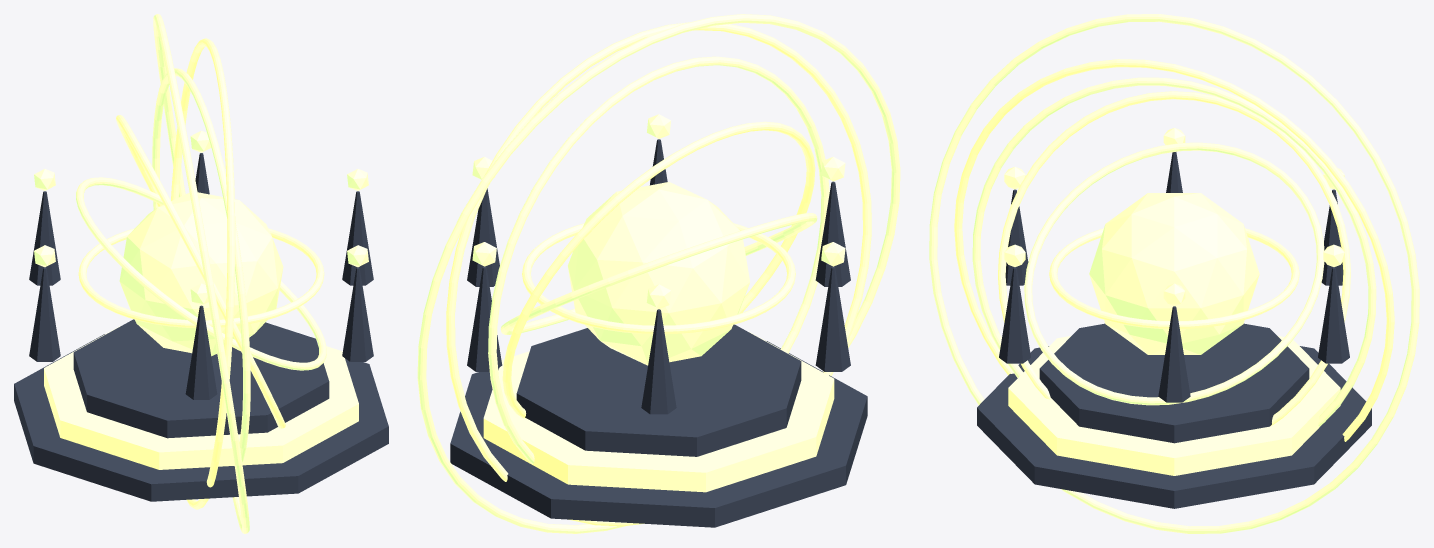
File: gpu-blender-v49.glb
The picture shows the model from 3 angles, left to right: view 1: azimuth 30°, elevation 25°; view 2: azimuth 150°, elevation 25°; view 3: azimuth 270°, elevation 25°; orthographic projection. The views are drawn at different scales.
Visible parts, largest first — view 1: Cylinder.002, Cylinder, SovereignCore_yara-sigma-forge, Cylinder.001, Torus.005, Torus.004, Torus.003, Torus.001, Torus, Torus.002, Cone.003, Cone.005 (+3 smaller); view 2: Cylinder.002, SovereignCore_yara-sigma-forge, Cylinder, Cylinder.001, Torus.005, Torus.004, Torus.003, Torus.002, Torus.001, Torus, Cone.002, Cone.003 (+3 smaller); view 3: SovereignCore_yara-sigma-forge, Cylinder.002, Cylinder, Cylinder.001, Torus.005, Torus.004, Torus.001, Torus.003, Torus.002, Torus, Cone, Cone.001 (+3 smaller).
Part boxes in pixels (x1,y1,x2,y2): Cylinder.002: (73, 319, 329, 438); Cylinder: (14, 334, 388, 501); SovereignCore_yara-sigma-forge: (119, 192, 283, 356); Cylinder.001: (44, 326, 358, 469); Torus.005: (153, 14, 249, 533); Torus.004: (171, 38, 235, 509); Torus.003: (152, 68, 250, 461); Torus.001: (76, 177, 326, 370); Torus: (78, 228, 324, 327); Torus.002: (116, 115, 285, 428); Cone.003: (29, 267, 60, 361); Cone.005: (342, 267, 373, 361); Cylinder.002: (516, 324, 801, 456); SovereignCore_yara-sigma-forge: (568, 182, 749, 365); Cylinder: (450, 341, 867, 527); Cylinder.001: (483, 332, 834, 492); Torus.005: (417, 14, 900, 533); Torus.004: (446, 22, 871, 526); Torus.003: (488, 56, 829, 463); Torus.002: (502, 121, 815, 418); Torus.001: (500, 213, 817, 334); Torus: (522, 223, 795, 334); Cone.002: (641, 309, 676, 414); Cone.003: (815, 267, 850, 371); SovereignCore_yara-sigma-forge: (1089, 193, 1259, 354); Cylinder.002: (1039, 323, 1309, 443); Cylinder: (977, 346, 1371, 508); Cylinder.001: (1008, 336, 1340, 475); Torus.005: (929, 14, 1419, 533); Torus.004: (954, 59, 1394, 441); Torus.001: (1024, 142, 1324, 405); Torus.003: (972, 77, 1376, 426); Torus.002: (998, 91, 1350, 425); Torus: (1049, 228, 1299, 328); Cone: (1158, 306, 1190, 402); Cone.001: (1318, 267, 1349, 363).
Bounding box in the file's own units: 4.41 × 5.93 × 5.46.
